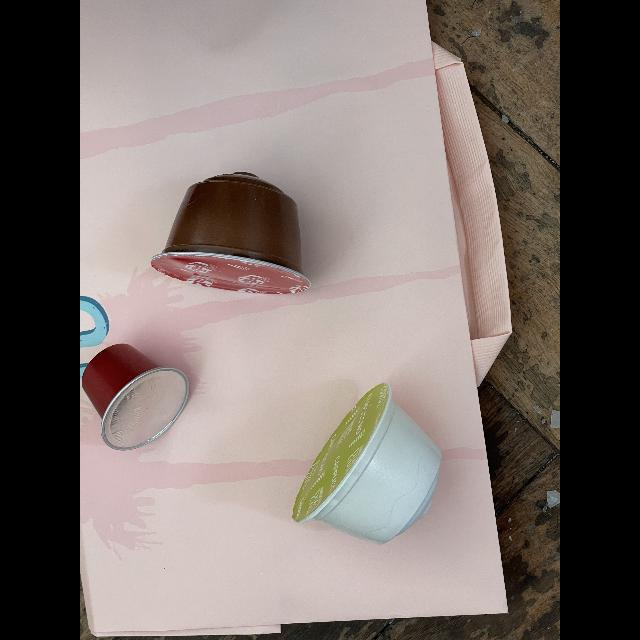intact_capsule: (281, 373, 453, 557), (142, 162, 328, 304), (80, 338, 204, 462)
